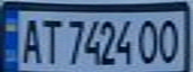2: (97, 16, 118, 66)
4: (115, 16, 139, 66), (81, 16, 103, 65)
7: (63, 16, 84, 65)
A: (15, 15, 45, 65)
O: (157, 16, 184, 65), (136, 16, 163, 65)
T: (36, 15, 63, 65)
